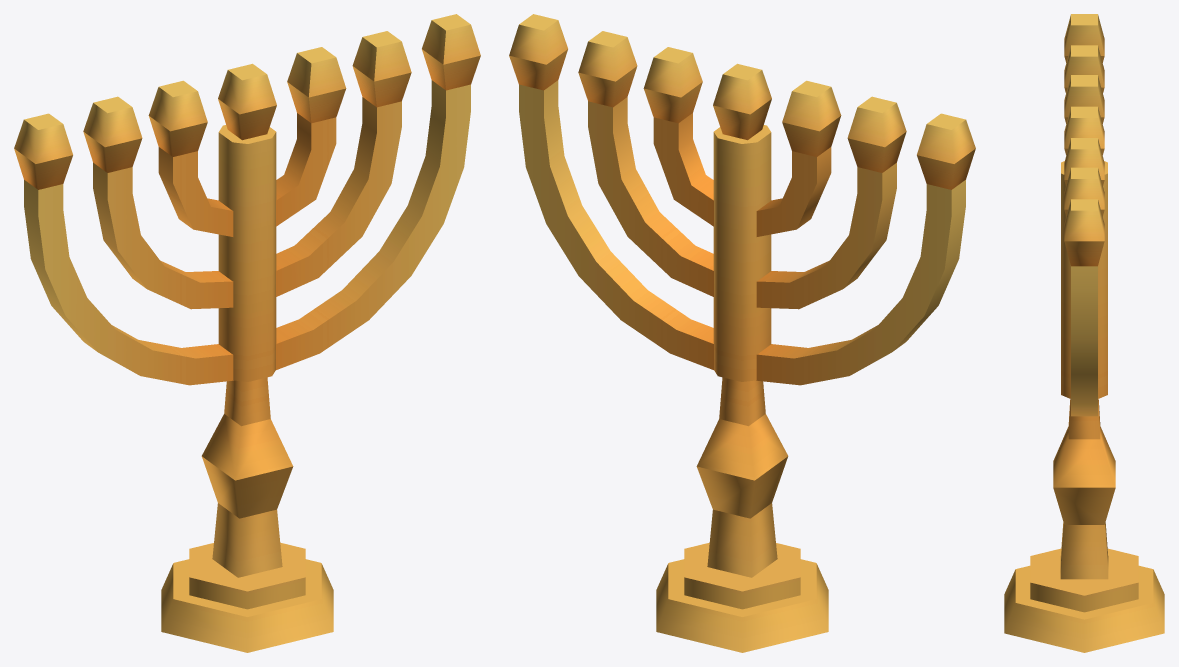
Rendered from menorah.glb.
3 renders of one model, left to right at view 1: azimuth 30°, elevation 25°; view 2: azimuth 150°, elevation 25°; view 3: azimuth 270°, elevation 25°, orthographic. The views are drawn at different scales.
Visible parts, largest first — view 1: hanukkah-menorah; view 2: hanukkah-menorah; view 3: hanukkah-menorah.
Part boxes in pixels (left/top/right/bottom): hanukkah-menorah: left=14, top=14, right=480, bottom=652; hanukkah-menorah: left=509, top=14, right=975, bottom=652; hanukkah-menorah: left=1004, top=14, right=1164, bottom=652.
Bounding box in the file's own units: 0.5642 × 0.6525 × 0.189.
1 material, 1 textured.
